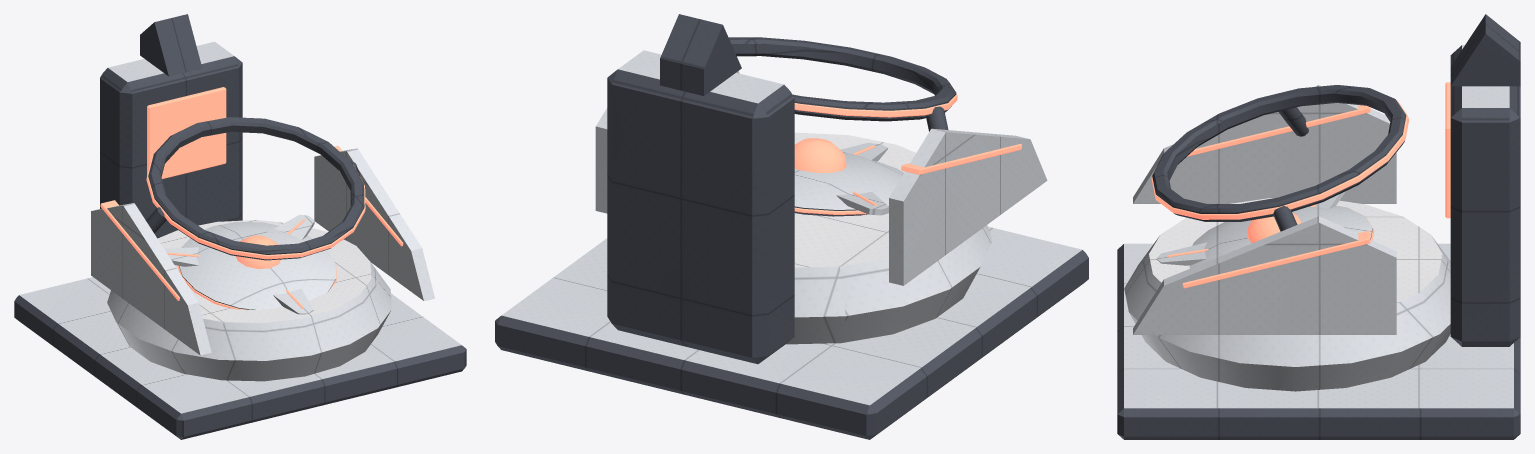
The model's file is R4X_ExplosiveTrapDeployer_LOD1.glb.
The picture shows the model from 3 angles, left to right: view 1: azimuth 30°, elevation 25°; view 2: azimuth 150°, elevation 25°; view 3: azimuth 270°, elevation 25°; orthographic projection. The views are drawn at different scales.
Parts seen in each view (by area): view 1: R4X_ExplosiveTrapDeployer_LOD1; view 2: R4X_ExplosiveTrapDeployer_LOD1; view 3: R4X_ExplosiveTrapDeployer_LOD1.
Part boxes in pixels (x1,y1,x2,y2): R4X_ExplosiveTrapDeployer_LOD1: (14, 14, 466, 439); R4X_ExplosiveTrapDeployer_LOD1: (495, 14, 1088, 439); R4X_ExplosiveTrapDeployer_LOD1: (1117, 14, 1520, 439).
Size of the model in its own units: 0.52 by 0.475 by 0.52.
Materials: 4 (3 with a texture image).
